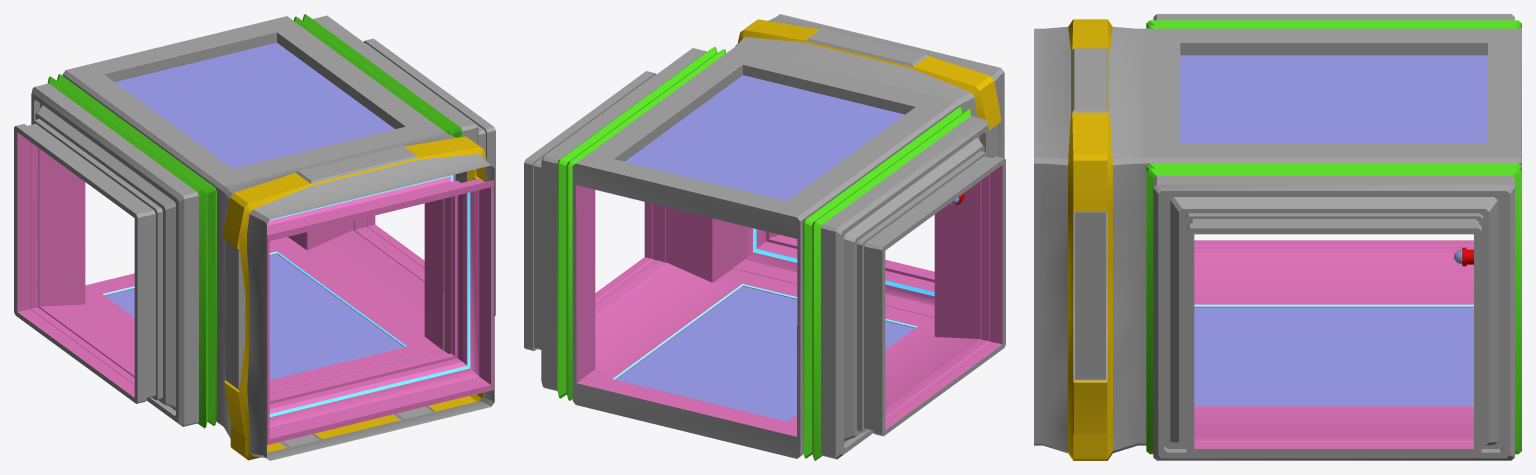
The model's file is SPACEDOCK_segment.fbx.
3 views of the same model, side by side, from view 1: azimuth 30°, elevation 25°; view 2: azimuth 150°, elevation 25°; view 3: azimuth 270°, elevation 25° (orthographic). The views are drawn at different scales.
Parts seen in each view (by area): view 1: spaceDock section, spaceDock section.003, spaceDock section.002, spaceDock small segment, spaceDock small segment.001; view 2: spaceDock section, spaceDock section.003, spaceDock section.002, spaceDock small segment, spaceDock small segment.001; view 3: spaceDock section, spaceDock section.002, spaceDock small segment, spaceDock section.003.
Boxes of the visible parts, left/top/right/bottom form: spaceDock section: left=14, top=14, right=495, bottom=428; spaceDock section.003: left=17, top=132, right=443, bottom=397; spaceDock section.002: left=105, top=42, right=404, bottom=379; spaceDock small segment: left=219, top=131, right=494, bottom=460; spaceDock small segment.001: left=267, top=174, right=493, bottom=444; spaceDock section: left=524, top=46, right=1005, bottom=460; spaceDock section.003: left=576, top=165, right=1002, bottom=436; spaceDock section.002: left=615, top=75, right=914, bottom=421; spaceDock small segment: left=733, top=14, right=1004, bottom=158; spaceDock small segment.001: left=733, top=223, right=934, bottom=317; spaceDock section: left=1146, top=14, right=1521, bottom=460; spaceDock section.002: left=1180, top=55, right=1487, bottom=406; spaceDock small segment: left=1034, top=19, right=1146, bottom=460; spaceDock section.003: left=1194, top=240, right=1473, bottom=448.
Bounding box in the file's own units: 659 × 466 × 651.
